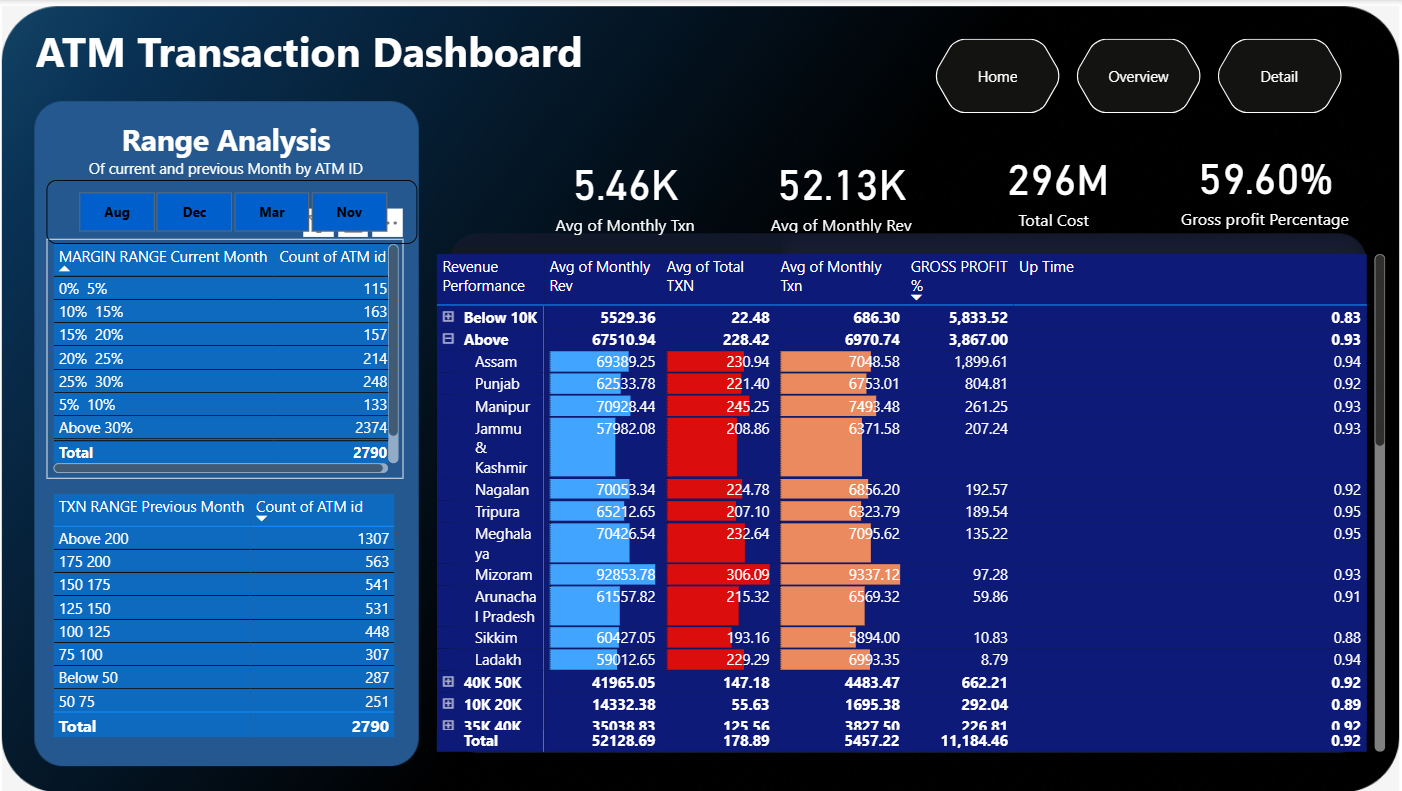

The dashboard page shown, as its layout file describes it:
{"tool":"powerbi","page":{"name":"Detail","canvas":[1280,720],"ordinal":2},"visuals":[{"type":"image","box":[10.7,0,1269.6,720.7],"z":0},{"type":"tableEx","fields":{"Values":["Dataset.MARGIN RANGE Current Month","Dataset.ATM id"]},"box":[56.2,195.3,322.9,236.1],"z":1000},{"type":"tableEx","fields":{"Values":["Dataset.TXN RANGE Previous Month","Dataset.ATM id"]},"box":[56.2,445.5,322.9,236.1],"z":2000},{"type":"textbox","box":[56.2,102.1,324.2,83],"z":3000},{"type":"pivotTable","fields":{"Rows":["Dataset.Revenue Performance","Dataset.STATE"],"Values":["Avg(Dataset.Monthly Rev)","Avg(Dataset.AVG Total TXN)","Avg(Dataset.Monthly Txn)","Sum(Dataset.GROSS PROFIT %)","Avg(Dataset.Up Time)"]},"box":[403.3,223.9,864.8,458.5],"z":4000},{"type":"textbox","box":[41.4,15.3,536.7,64.4],"z":4001},{"type":"card","fields":{"Values":["Avg(Dataset.Monthly Txn)"]},"box":[417.1,116.5,177.9,93.5],"z":4002},{"type":"card","fields":{"Values":["Avg(Dataset.Monthly Rev)"]},"box":[636.3,121.1,185.5,84.3],"z":4003},{"type":"card","fields":{"Values":["Sum(Dataset. Total Cost  )"]},"box":[855.6,121.1,180.9,95.1],"z":4004},{"type":"card","fields":{"Values":["Dataset.Gross profit Percentage"]},"box":[1059.5,121.1,191.7,95.1],"z":4005},{"type":"pageNavigator","box":[855.6,35.3,372.6,67.5],"z":4006}]}

Visuals, with their boxes in screenshot pixels (x1, y1, x2, y2), scaled from the page's 1280x720 canvas onto the 1402x791 screenshot:
image: 12 0 1401 790
tableEx - Dataset.MARGIN RANGE Current Month x Dataset.ATM id: 62 215 415 474
tableEx - Dataset.TXN RANGE Previous Month x Dataset.ATM id: 62 489 415 749
textbox: 62 112 417 203
pivotTable - Dataset.Revenue Performance x Dataset.STATE: 442 246 1389 750
textbox: 45 17 633 88
card - Avg(Dataset.Monthly Txn): 457 128 652 231
card - Avg(Dataset.Monthly Rev): 697 133 900 226
card - Sum(Dataset. Total Cost  ): 937 133 1135 238
card - Dataset.Gross profit Percentage: 1160 133 1370 238
pageNavigator: 937 39 1345 113
